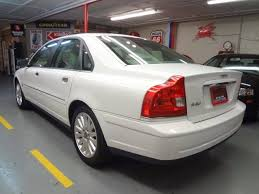car: (12, 34, 246, 165)
